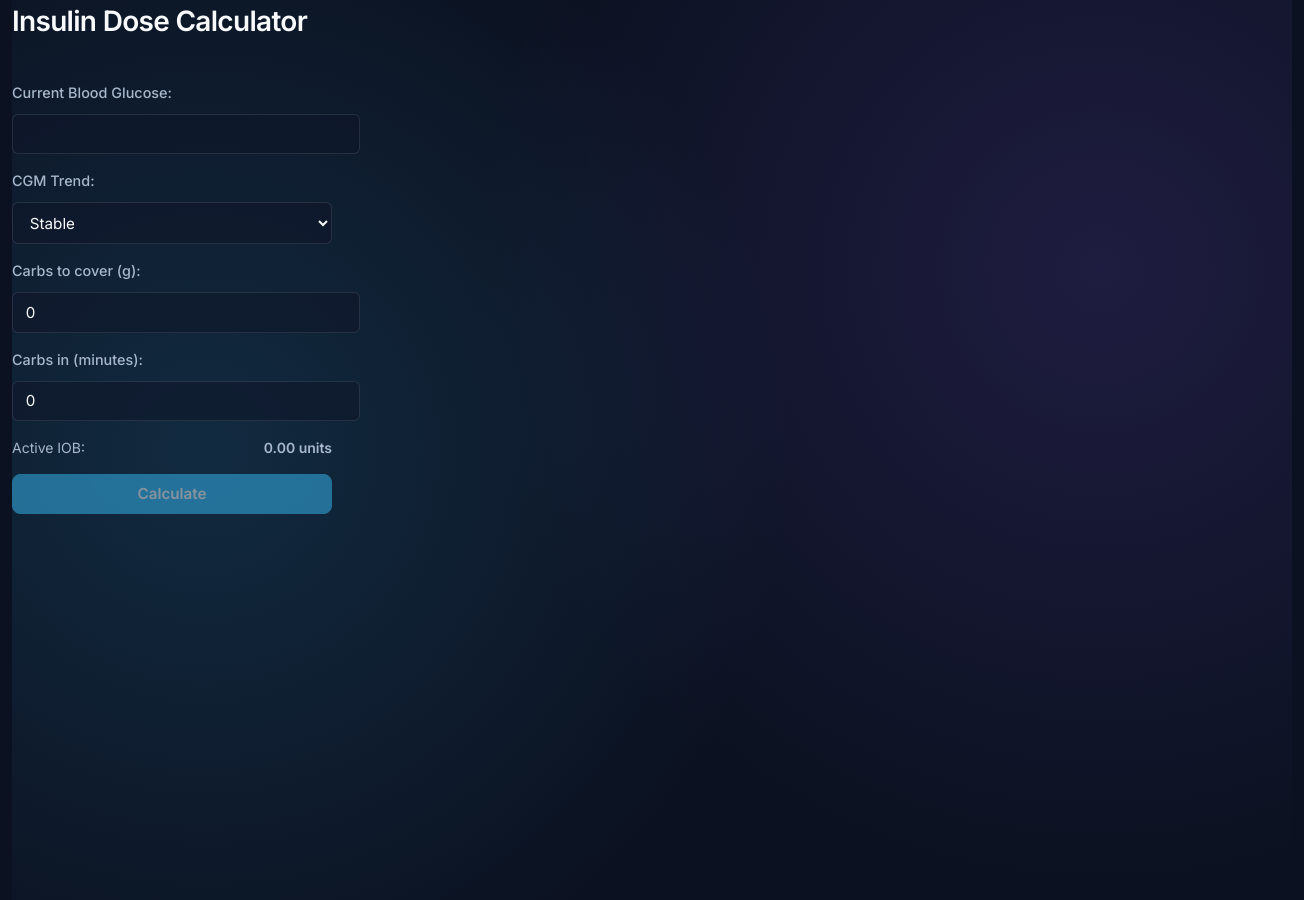
it: DoseCalculator › shows warnings list when result contains warnings
Type "300" into the number field labelled "Current Blood Glucose:" at (186, 134), box [12, 114, 360, 154]
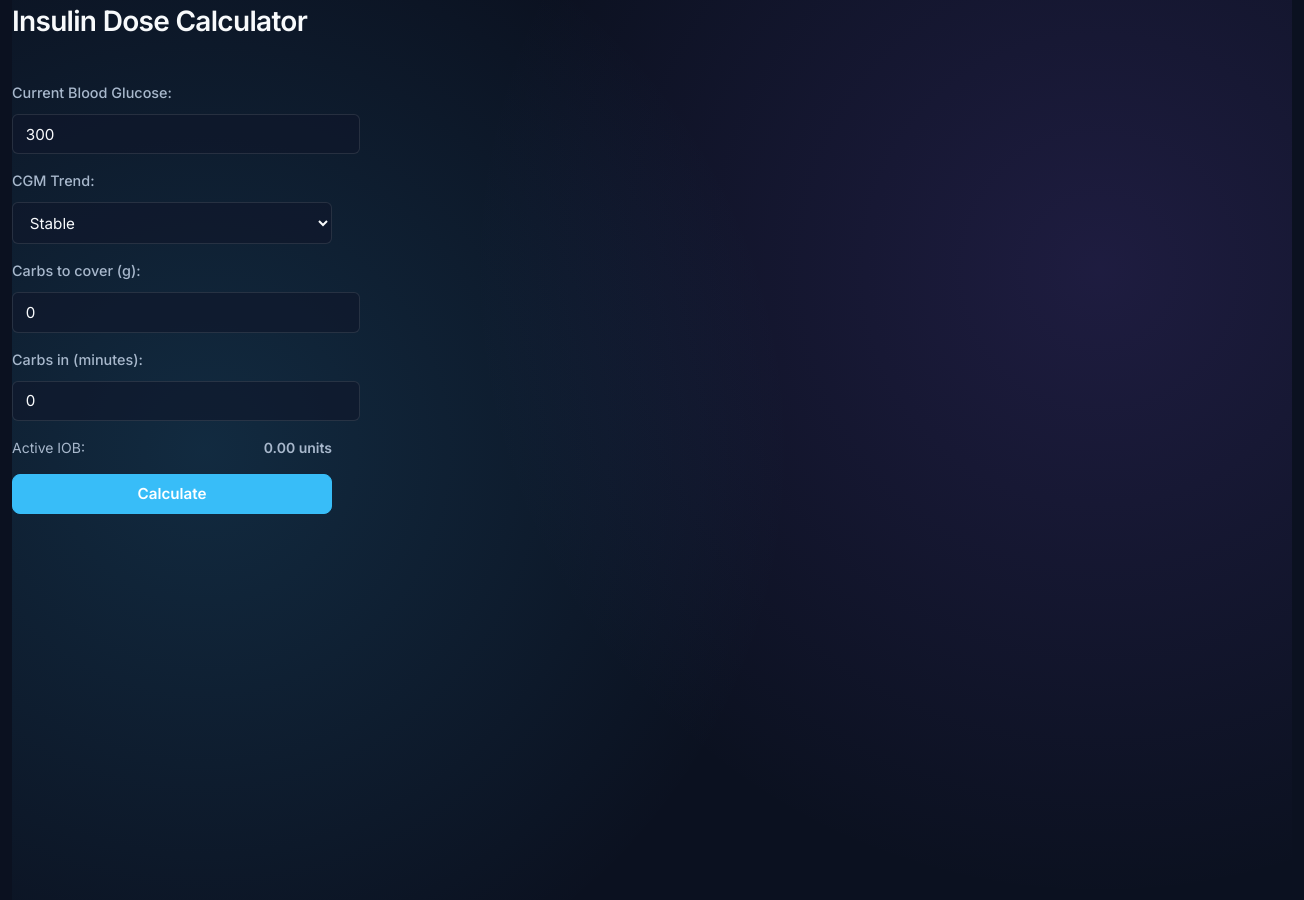
Click the button "Calculate" at (172, 494), box [12, 474, 332, 514]
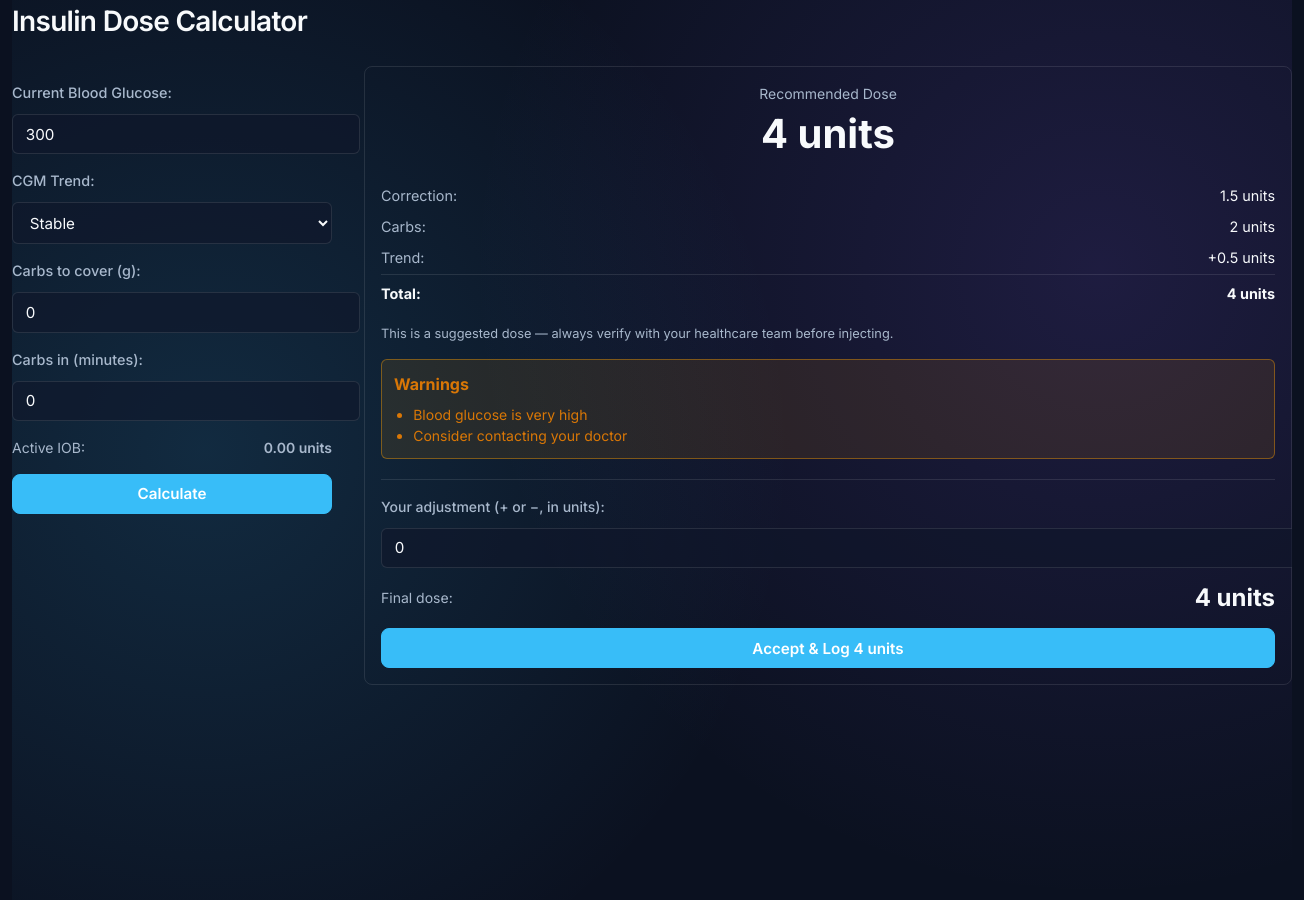
Now the list item "Blood glucose is very high" is shown, box [413, 406, 588, 423]
Now the list item "Consider contacting your doctor" is shown, box [413, 427, 627, 444]
